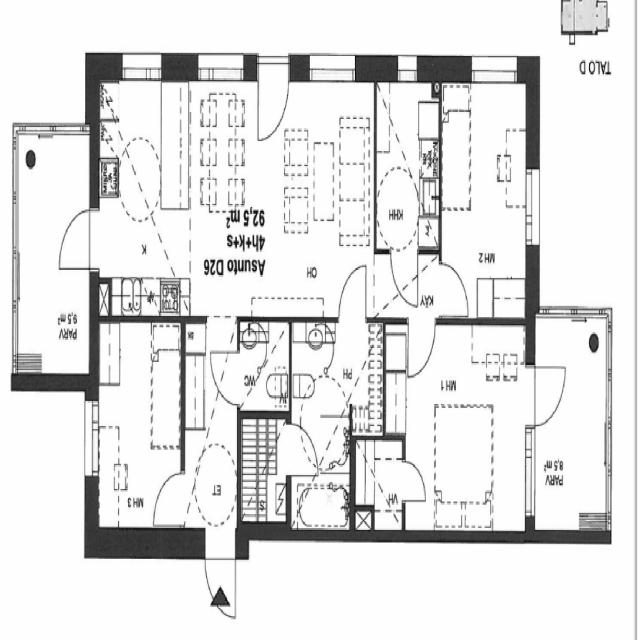door: (204, 527, 235, 621), (258, 52, 288, 139), (525, 366, 566, 428), (60, 210, 100, 268), (154, 473, 186, 524), (390, 250, 418, 308), (210, 352, 241, 404), (339, 265, 365, 325), (408, 316, 434, 374), (438, 264, 467, 312), (288, 427, 316, 474), (402, 461, 425, 501)
